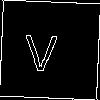V: (24, 25, 58, 72)
